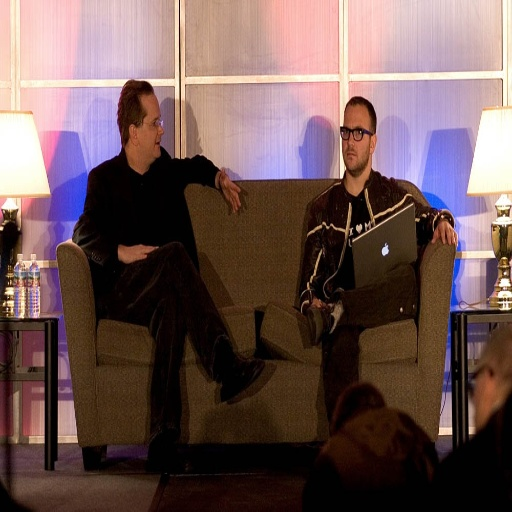hand: (434, 208, 461, 258), (219, 167, 242, 214), (119, 241, 160, 264), (311, 296, 325, 308)
